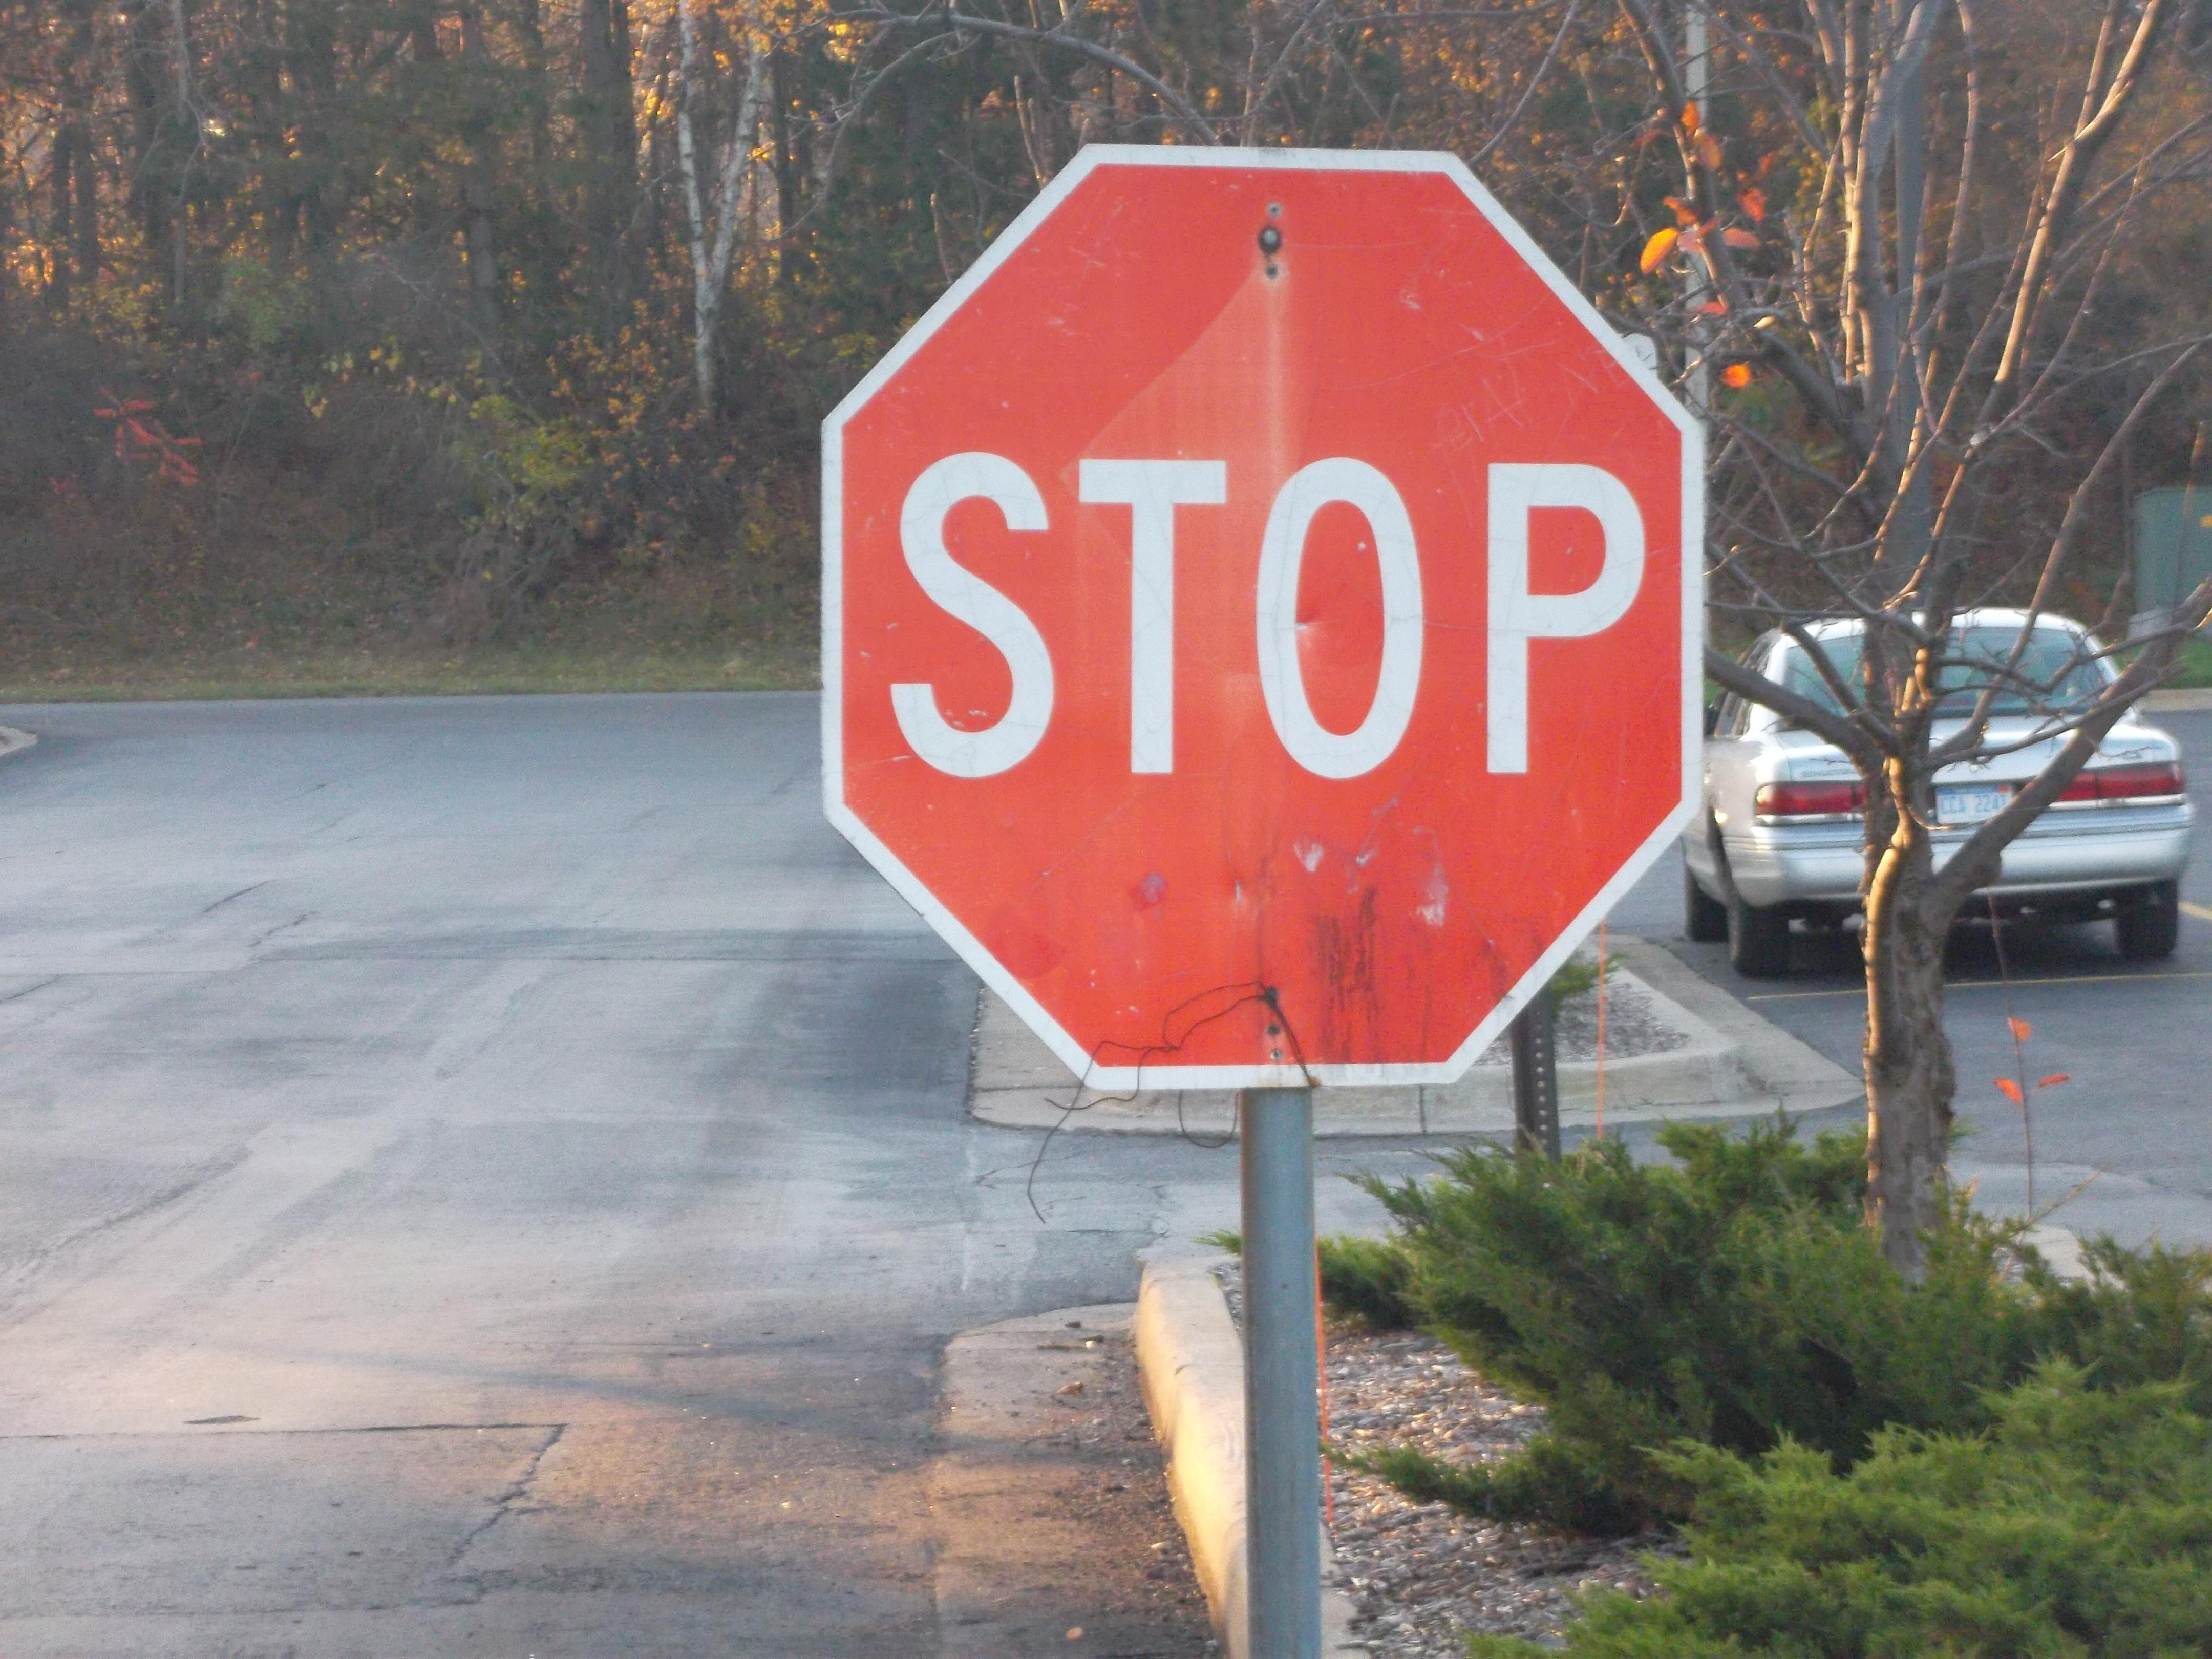stop: (799, 110, 1742, 1162)
